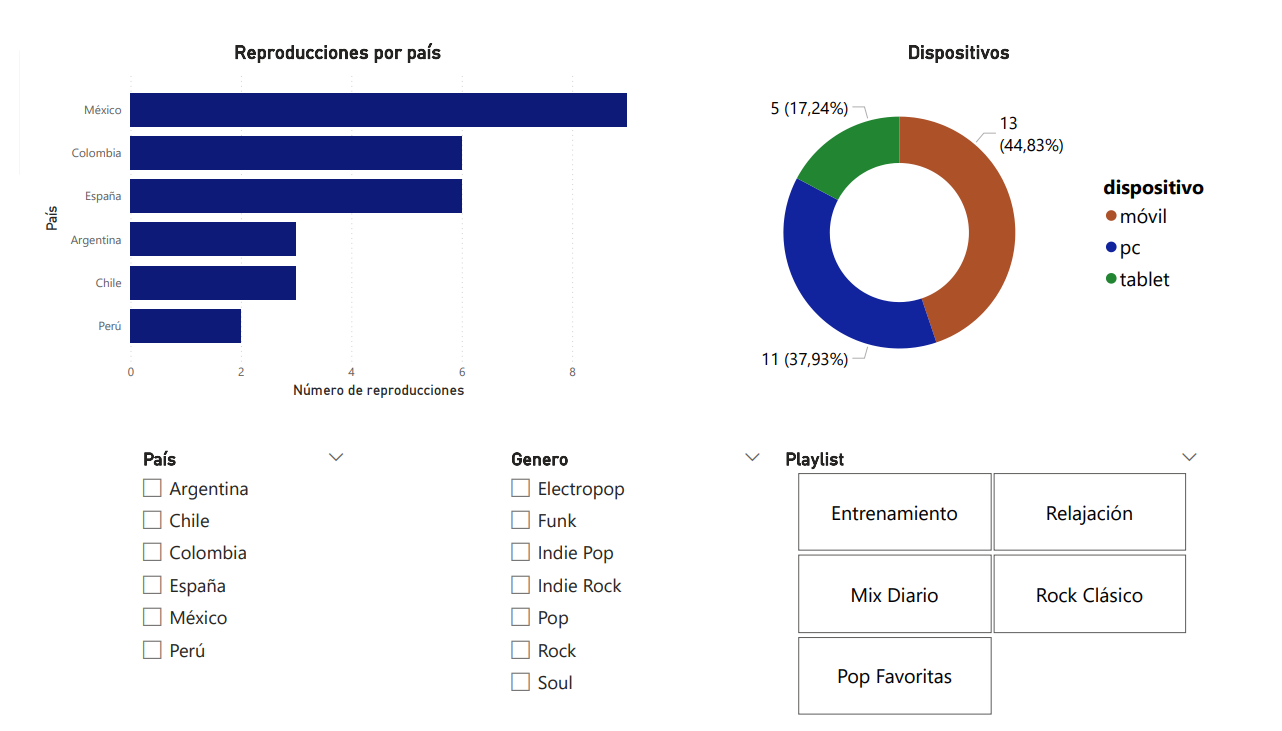

What the dashboard file says about the page in this screenshot:
{"tool":"powerbi","page":{"name":"Page 2","canvas":[1280,720],"ordinal":1},"visuals":[{"type":"slicer","fields":{"Values":["usuarios.pais"]},"box":[110.9,435.1,230.1,285.6],"z":0},{"type":"slicer","fields":{"Values":["canciones.genero"]},"box":[488.3,435,278.3,285],"z":1000},{"type":"clusteredBarChart","title":"Reproducciones por país","fields":{"Category":["usuarios.pais"],"Y":["artistas.Reproducciones Playlist","artistas.Total Reproducciones"]},"box":[20,25,608.3,368.3],"z":2000},{"type":"donutChart","title":"Dispositivos","fields":{"Category":["reproducciones.dispositivo"],"Y":["CountNonNull(reproducciones.id_reproduccion)"]},"box":[683.3,25,546.7,368.3],"z":3000},{"type":"slicer","fields":{"Values":["playlists.nombre"]},"box":[766,421.6,463.6,285.6],"z":5000}]}

Visuals, with their boxes in screenshot pixels (x1, y1, x2, y2), scaled from the page's 1280x720 canvas onto the 1282x731 screenshot:
slicer - usuarios.pais: box=[111, 442, 342, 730]
slicer - canciones.genero: box=[489, 442, 768, 730]
"Reproducciones por país" clusteredBarChart: box=[20, 25, 629, 399]
"Dispositivos" donutChart: box=[684, 25, 1232, 399]
slicer - playlists.nombre: box=[767, 428, 1232, 718]
